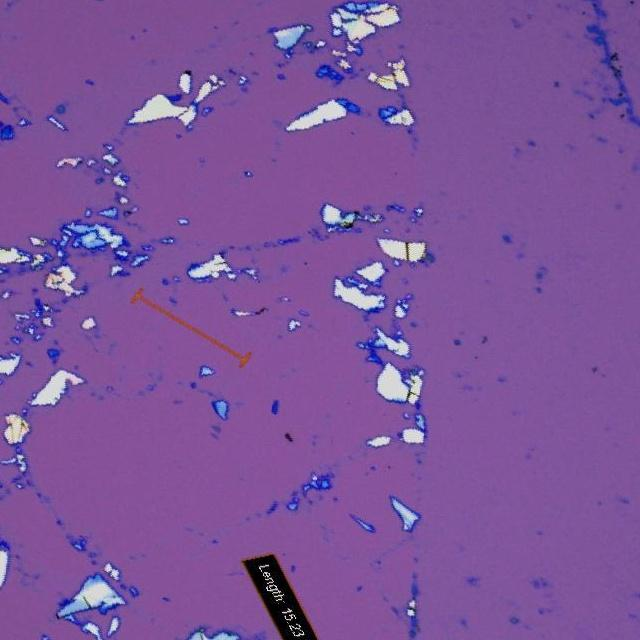monolayer-eWW4: (210, 425, 222, 434), (173, 399, 182, 404)
